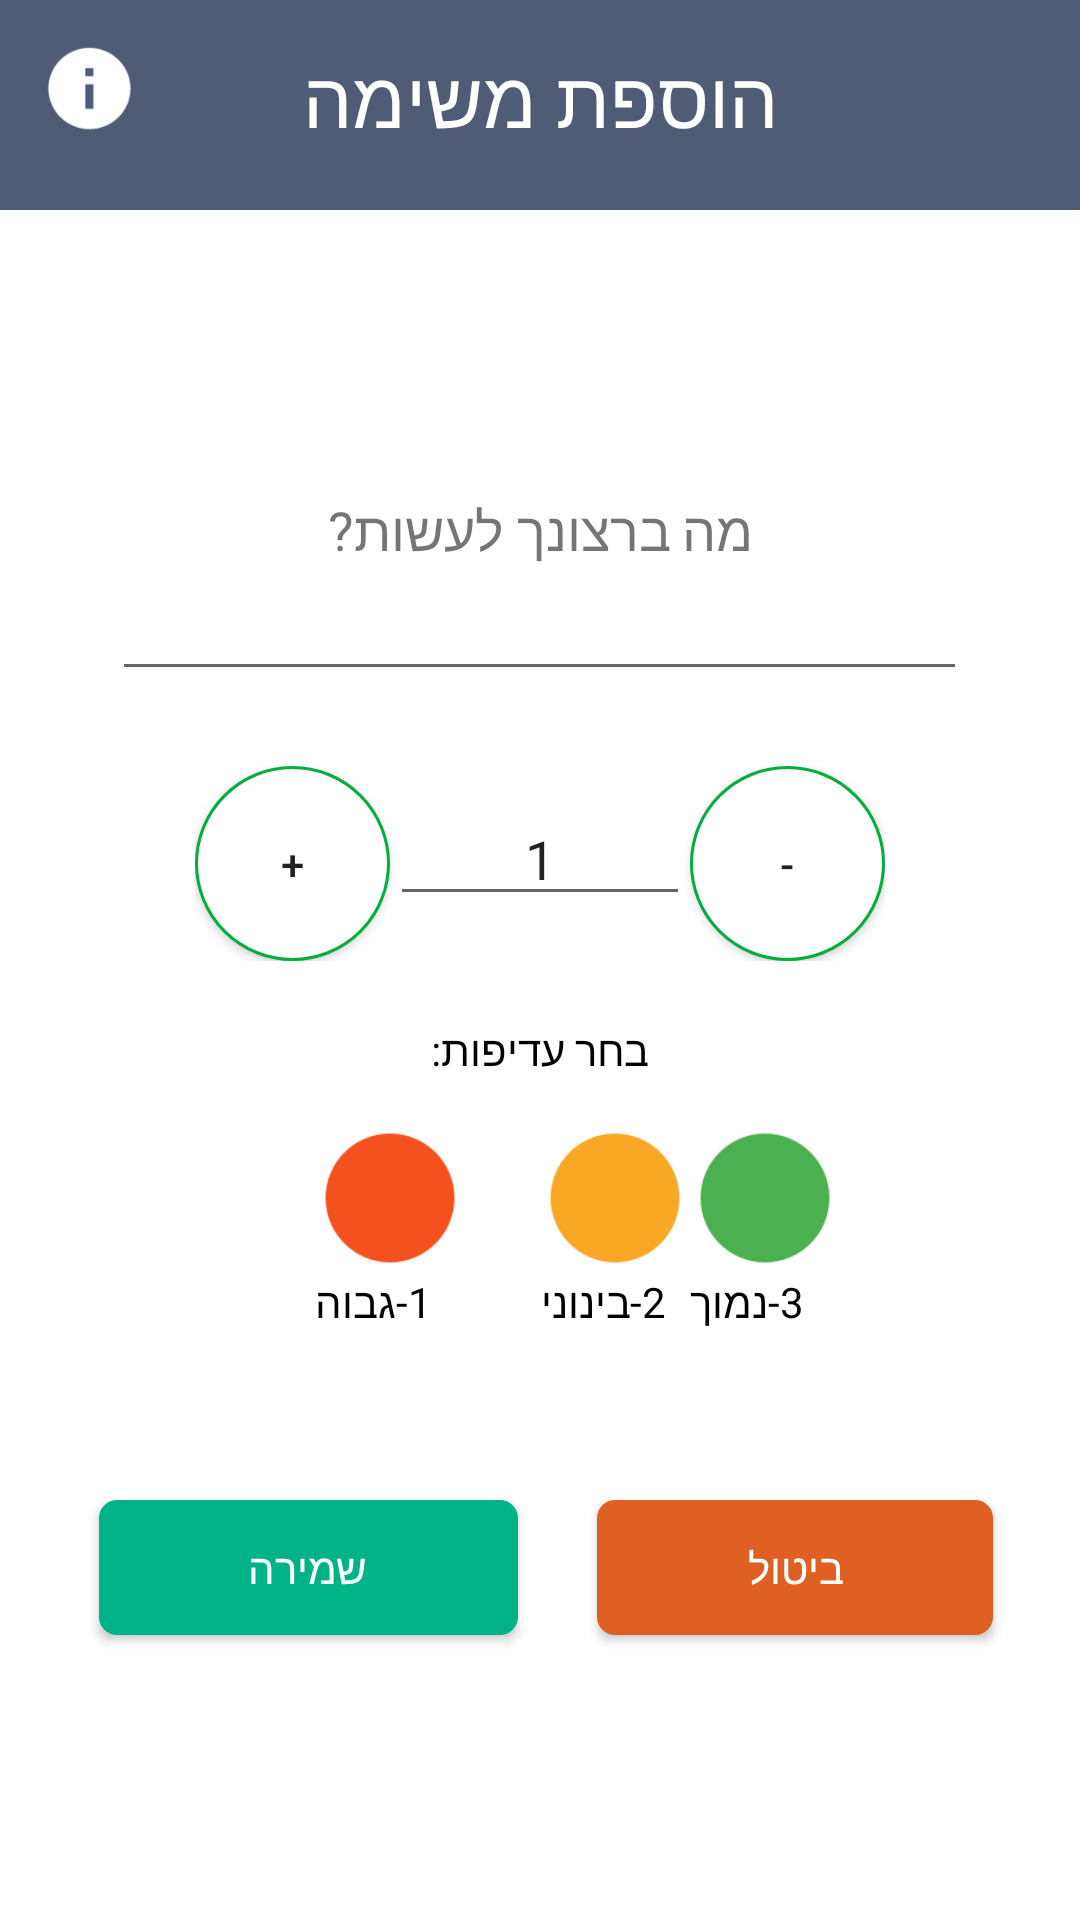

Where to tap for icons on this 1080*1920 app screen, as [x,y]:
infor: [89,88]
